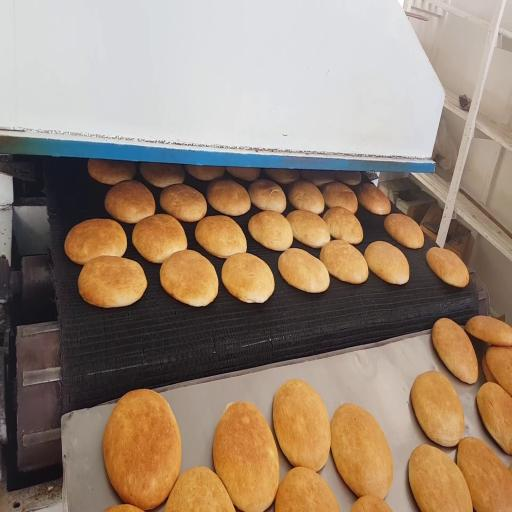bread: (103, 390, 181, 510), (213, 402, 279, 511), (331, 403, 393, 499), (273, 379, 330, 471), (409, 445, 472, 511), (411, 371, 464, 447), (457, 438, 511, 511), (78, 256, 147, 307), (160, 250, 218, 306), (165, 467, 234, 511), (432, 319, 478, 383), (65, 219, 127, 265), (275, 467, 339, 511), (132, 214, 187, 263), (222, 253, 274, 303), (477, 383, 511, 454), (278, 248, 329, 292), (105, 180, 155, 223), (195, 216, 246, 258), (320, 240, 368, 283), (364, 241, 409, 284), (248, 211, 293, 251), (160, 184, 206, 222), (427, 247, 469, 287), (287, 210, 330, 248), (207, 179, 250, 216), (323, 207, 363, 244), (384, 214, 424, 248), (466, 316, 511, 346), (288, 180, 324, 214), (249, 180, 286, 213), (486, 347, 511, 395), (88, 159, 135, 184), (140, 163, 184, 188), (322, 182, 357, 213), (358, 183, 390, 215), (351, 495, 392, 511), (186, 165, 224, 181), (300, 170, 333, 186), (265, 169, 299, 184), (226, 167, 260, 181), (482, 355, 497, 383), (334, 171, 361, 186), (105, 504, 142, 511)
